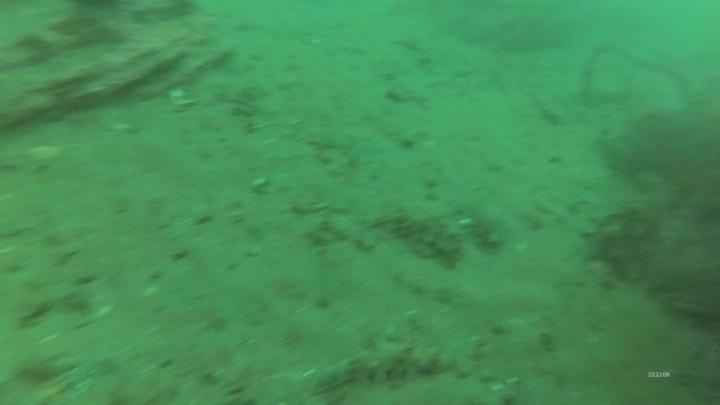holothurian: (312, 334, 454, 394), (374, 204, 468, 270)
